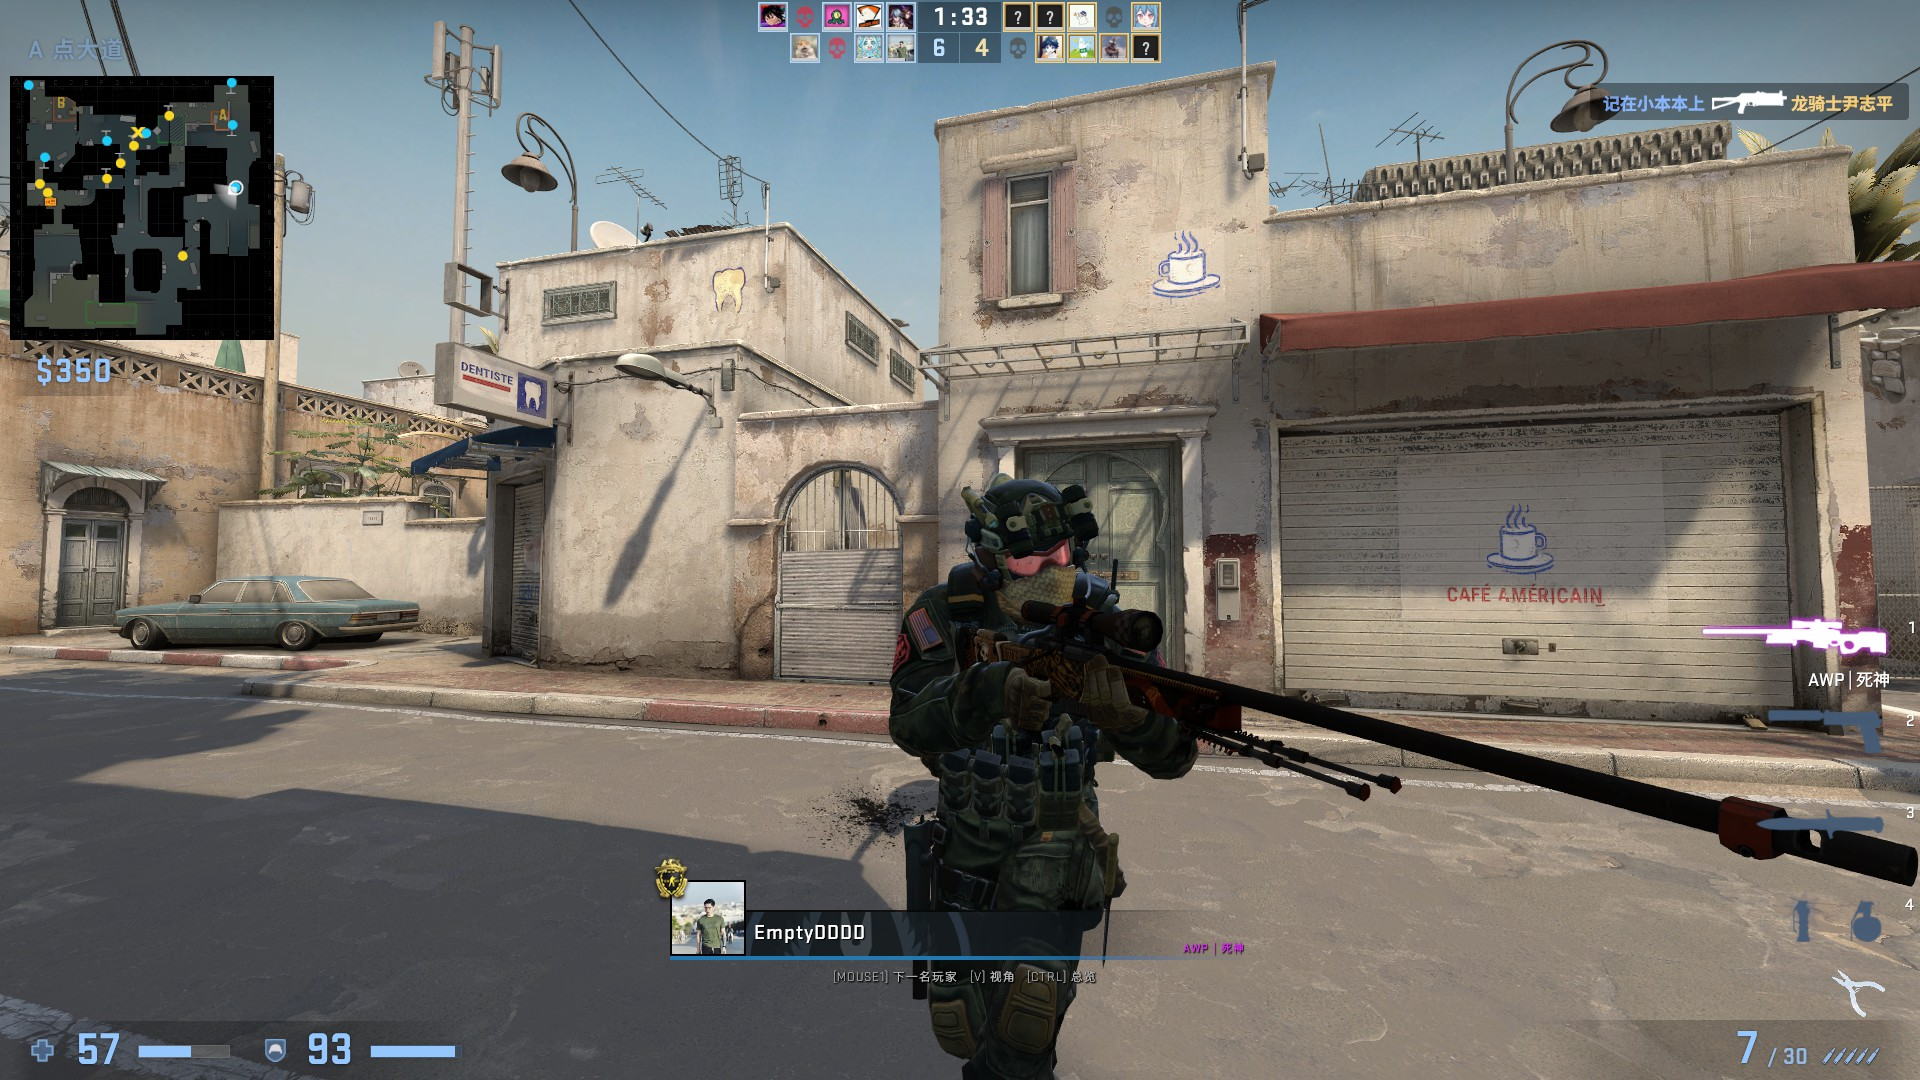head: (950, 471, 1101, 623)
